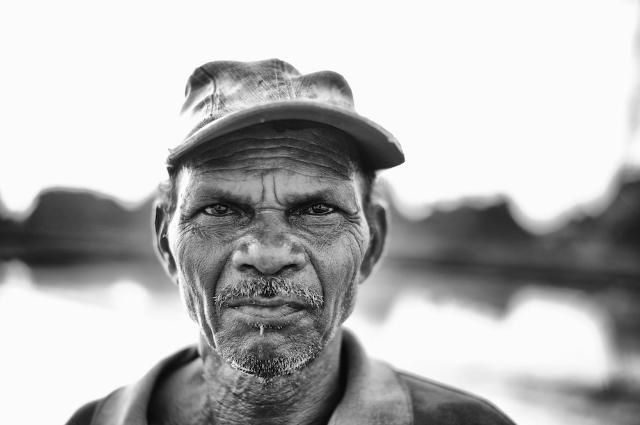crows_feet: (341, 205, 365, 240), (178, 211, 202, 235)
forehead: (266, 130, 306, 168), (311, 141, 343, 181), (234, 134, 262, 160), (202, 147, 224, 173)
frown_line: (253, 176, 283, 214)
gummy_smile: (206, 256, 232, 306), (307, 255, 331, 297)
masseter: (196, 312, 218, 344)
